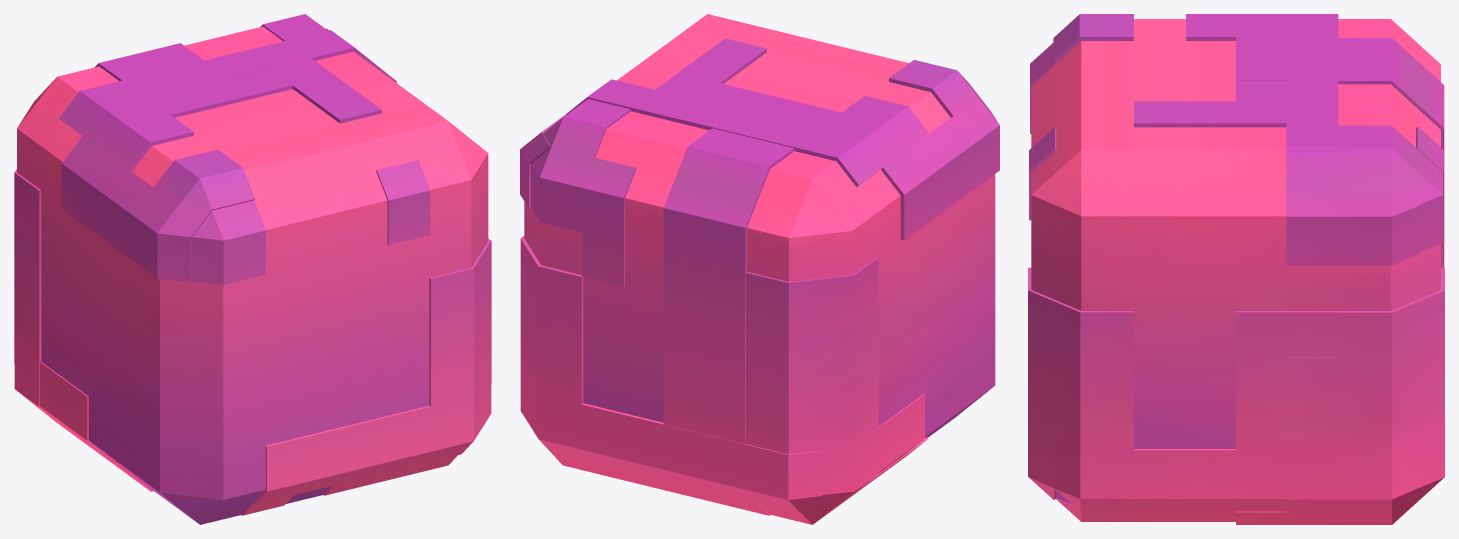
The model's file is CyberPunkCubeShapeD.010.glb.
The picture shows the model from 3 angles, left to right: view 1: azimuth 30°, elevation 25°; view 2: azimuth 150°, elevation 25°; view 3: azimuth 270°, elevation 25°; orthographic projection. The views are drawn at different scales.
Visible parts, largest first — view 1: CyberPunkCubeShapeD.010; view 2: CyberPunkCubeShapeD.010; view 3: CyberPunkCubeShapeD.010.
Boxes of the visible parts, left/top/right/bottom form: CyberPunkCubeShapeD.010: left=14, top=14, right=491, bottom=524; CyberPunkCubeShapeD.010: left=520, top=14, right=999, bottom=524; CyberPunkCubeShapeD.010: left=1028, top=14, right=1444, bottom=524.
Size of what is drawn, in the model's own units: 0.7775 by 0.7766 by 0.7741.
1 material, 1 textured.
